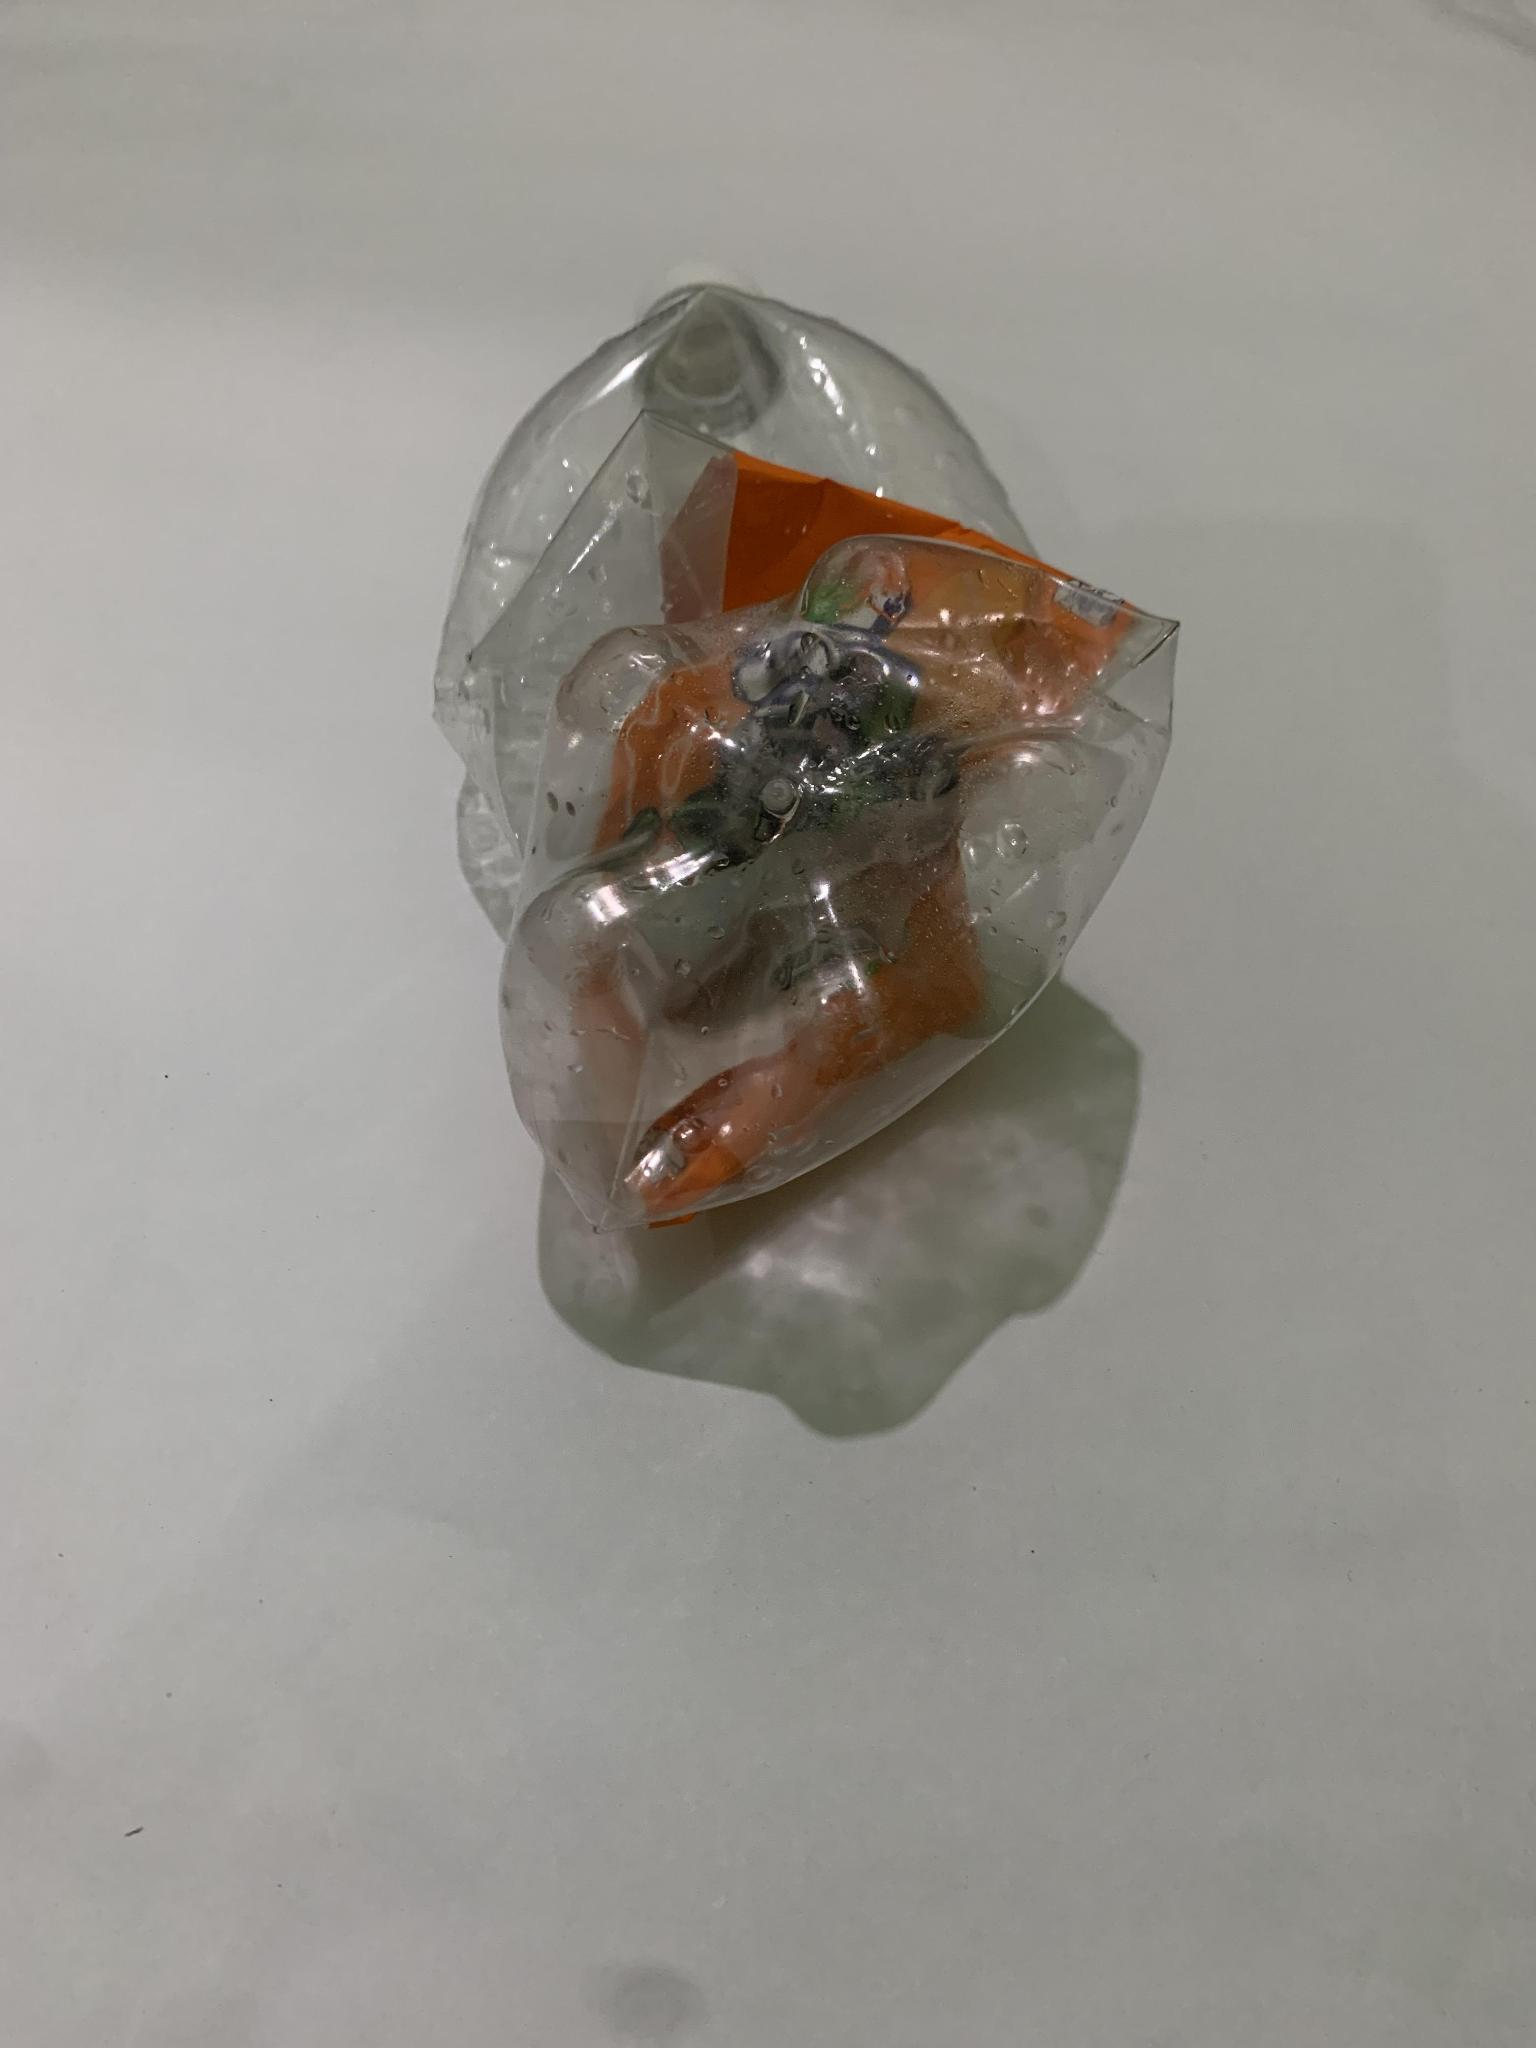bottle: (436, 277, 1229, 1329)
